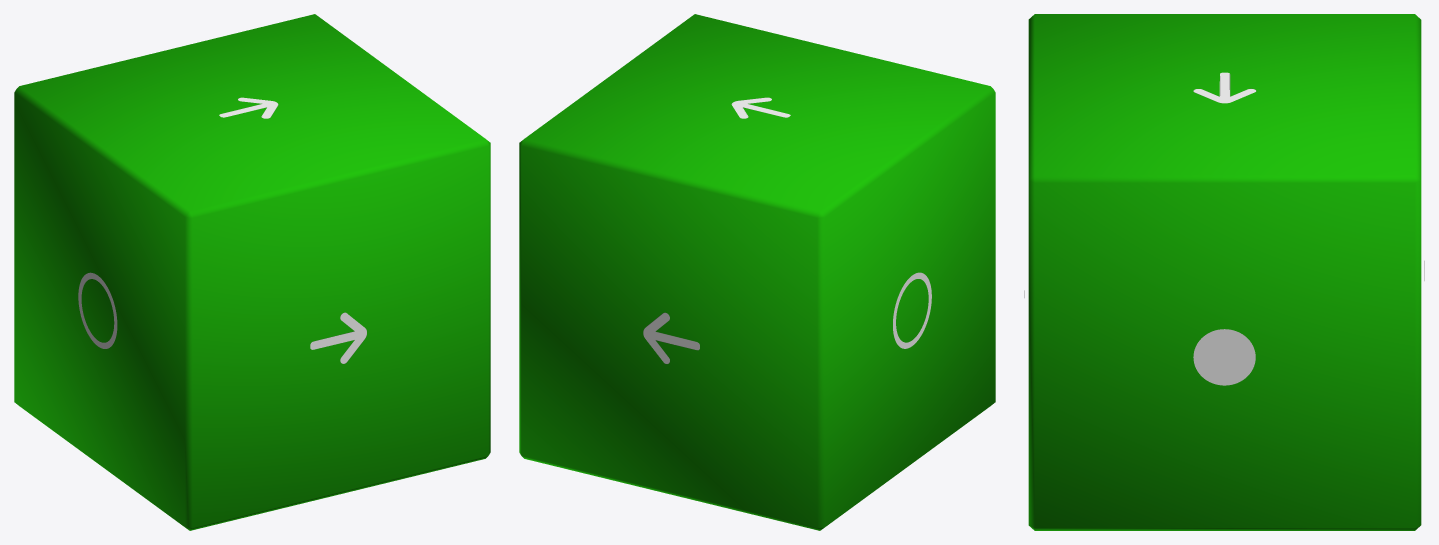
Rendered from BigBoxTapFlowBox_3_3_3_Clean_test2.fbx.
3 renders of one model, left to right at view 1: azimuth 30°, elevation 25°; view 2: azimuth 150°, elevation 25°; view 3: azimuth 270°, elevation 25°, orthographic. The views are drawn at different scales.
Visible parts, largest first — view 1: BigBoxTapFlowBox_3_3_3_Clean_test; view 2: BigBoxTapFlowBox_3_3_3_Clean_test; view 3: BigBoxTapFlowBox_3_3_3_Clean_test.
Boxes of the visible parts, left/top/right/bottom form: BigBoxTapFlowBox_3_3_3_Clean_test: left=14, top=14, right=490, bottom=530; BigBoxTapFlowBox_3_3_3_Clean_test: left=519, top=14, right=995, bottom=530; BigBoxTapFlowBox_3_3_3_Clean_test: left=1024, top=14, right=1424, bottom=530.
Size of the model in its own units: 3.18 by 3.22 by 3.2.
